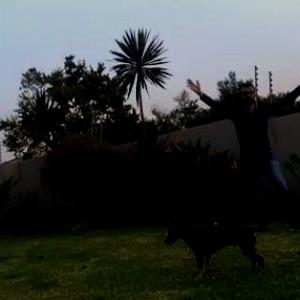takeoff: (194, 80, 299, 208)
